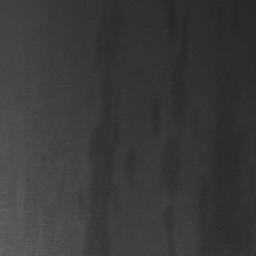Inclusion: (82, 0, 128, 256), (160, 140, 182, 193)
